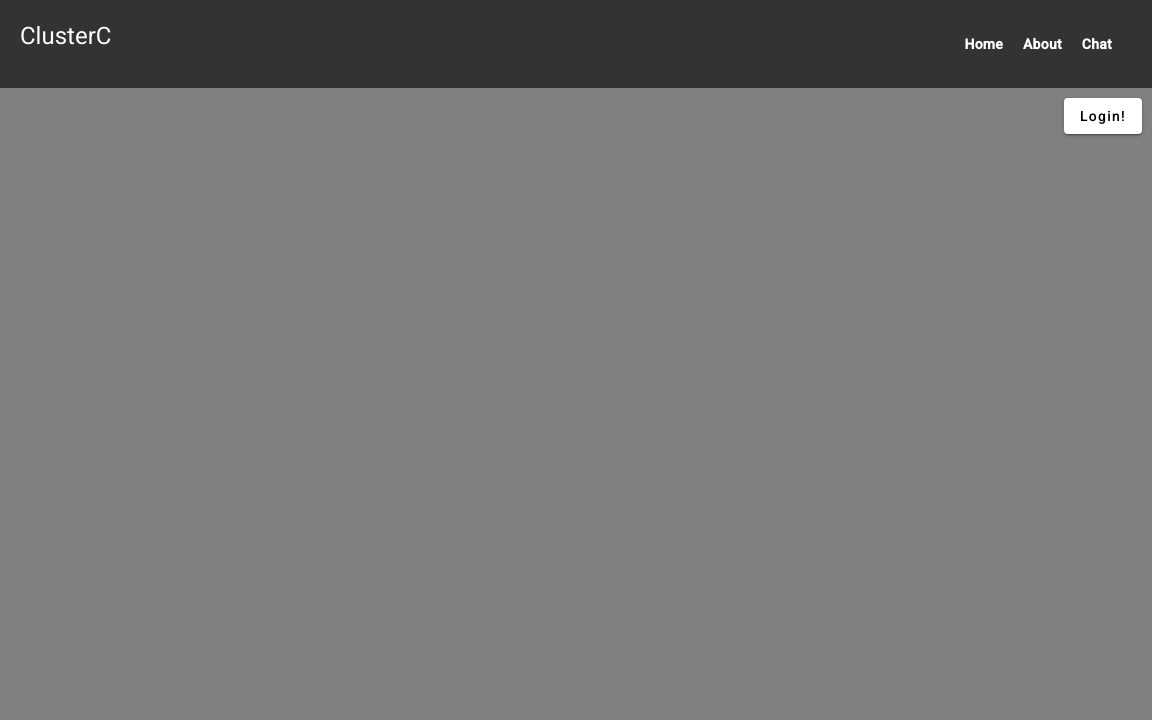
Navigation › Visit account creation page
This screenshot has width=1152, height=720.
Click the button "Login!": (1103,116) [1064, 98, 1142, 134]
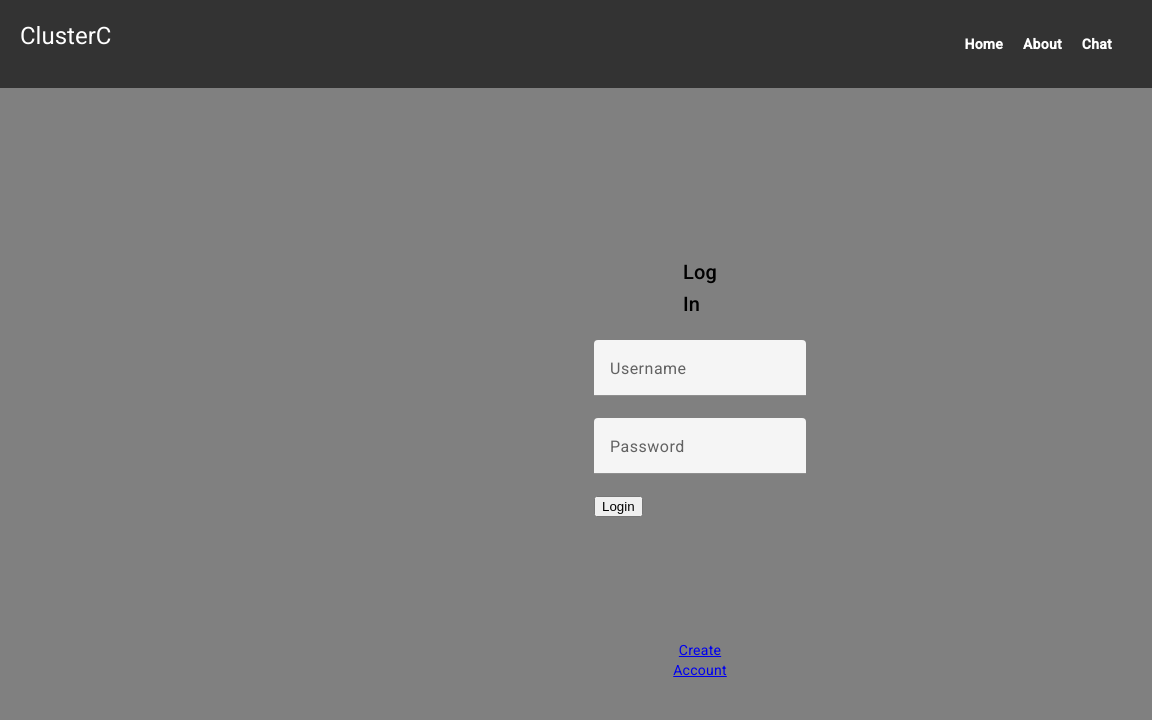
Click the link "Create Account": (700,650) [673, 642, 727, 678]
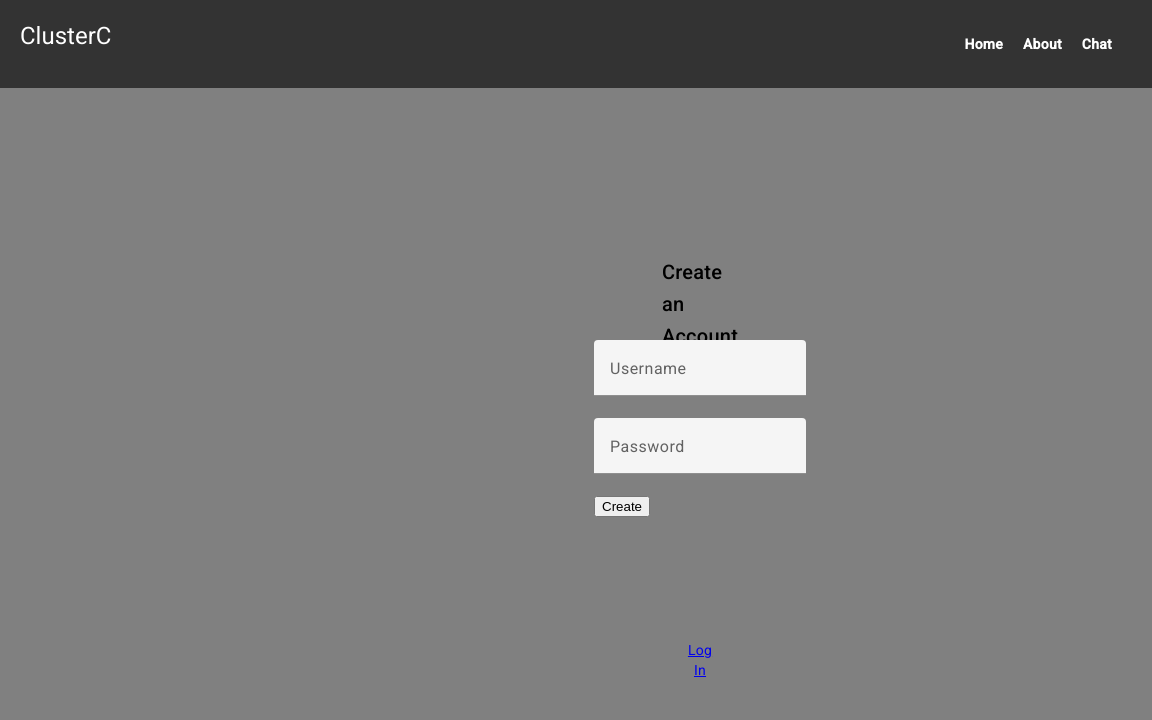
Now the text "Create an Account" is shown, box [662, 256, 738, 352]
